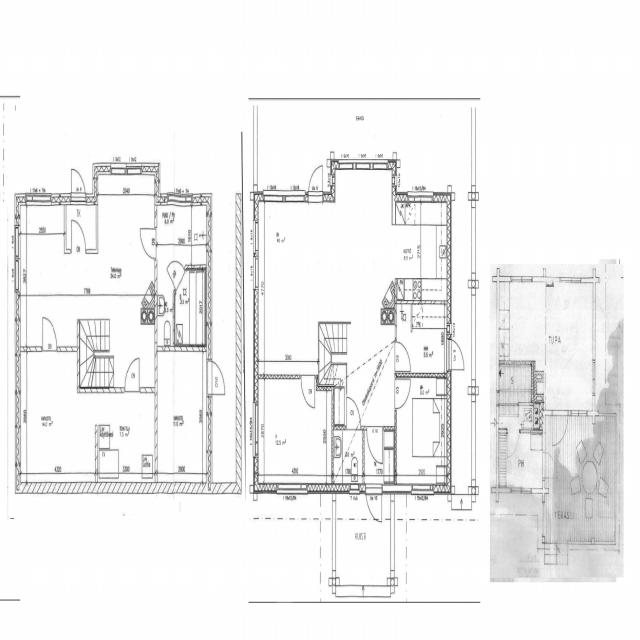door: (167, 250, 186, 292), (366, 483, 382, 528), (207, 361, 227, 394), (308, 161, 323, 202), (446, 339, 466, 369), (71, 165, 85, 205), (367, 426, 382, 462), (346, 396, 361, 429), (42, 316, 56, 351), (71, 219, 85, 254), (125, 358, 139, 392), (301, 374, 315, 408), (141, 229, 157, 258), (395, 379, 410, 408), (395, 342, 410, 371)
